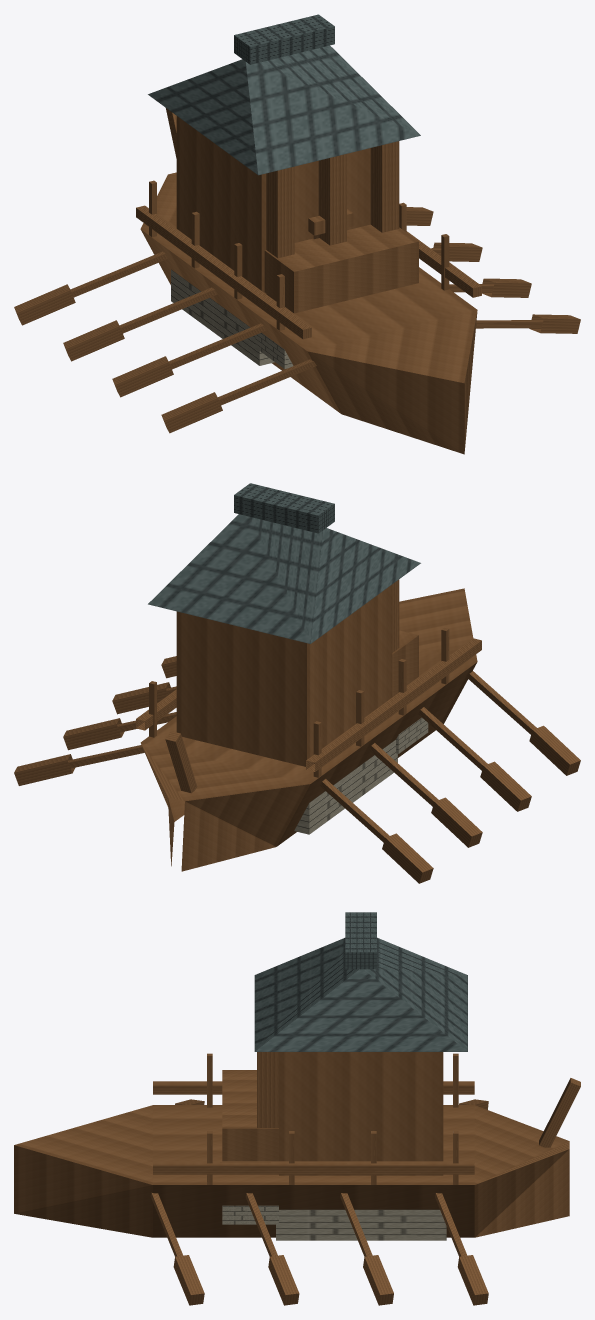
The model's file is unit-TOWER_SHIP-lod0.glb.
The picture shows the model from 3 angles, top to bottom: view 1: azimuth 30°, elevation 25°; view 2: azimuth 150°, elevation 25°; view 3: azimuth 270°, elevation 25°; orthographic projection. The views are drawn at different scales.
Size of the model in its own units: 0.7343 by 0.492 by 0.8982.
1 material, 1 textured.
